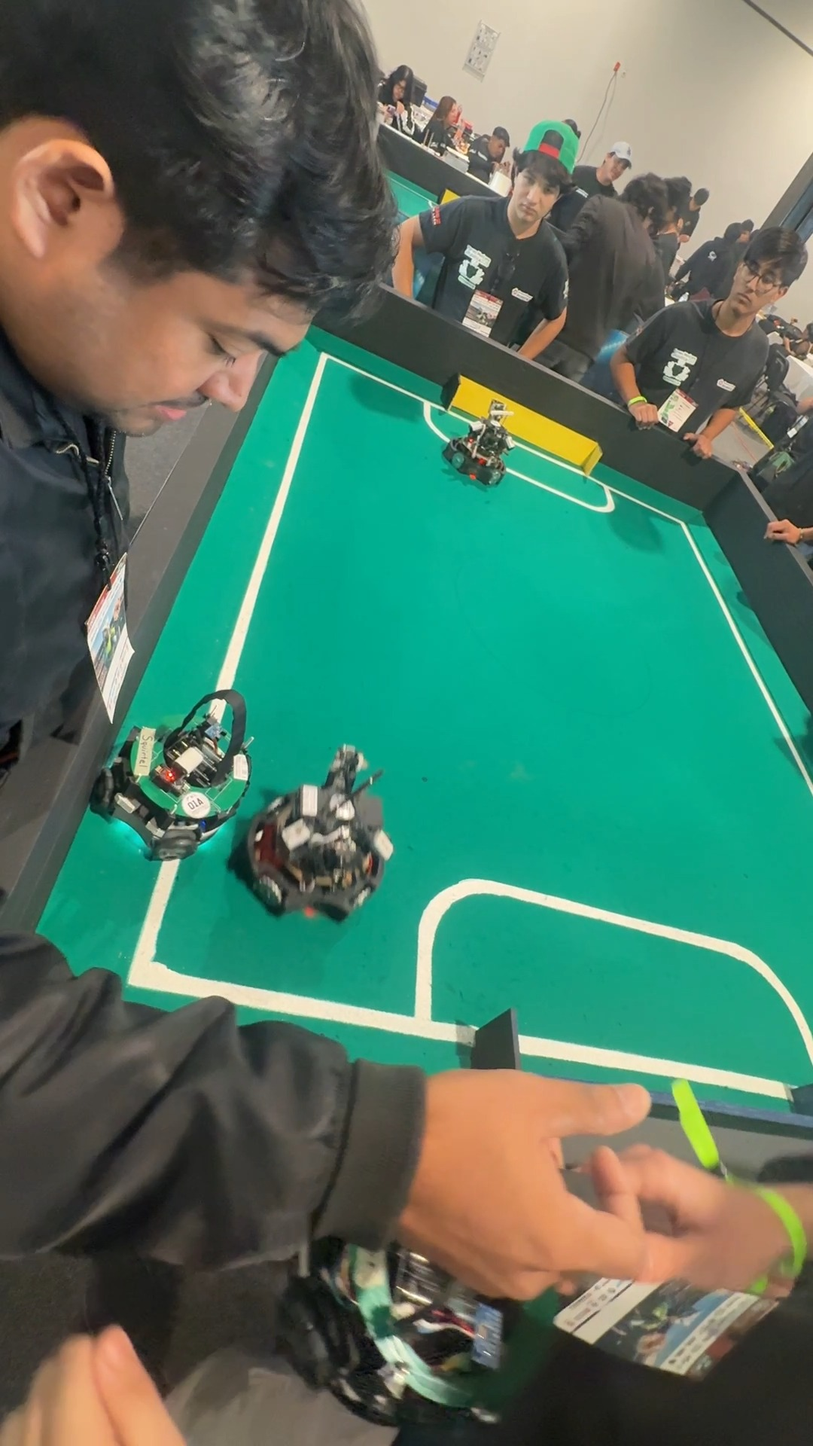Robot: (248, 737, 397, 934), (107, 684, 249, 875), (454, 393, 514, 487)
